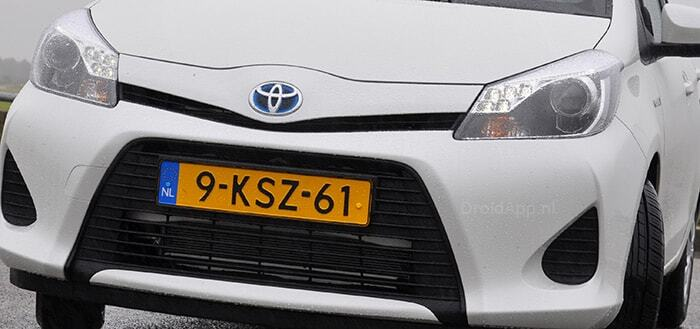kenteken: (156, 161, 370, 229)
